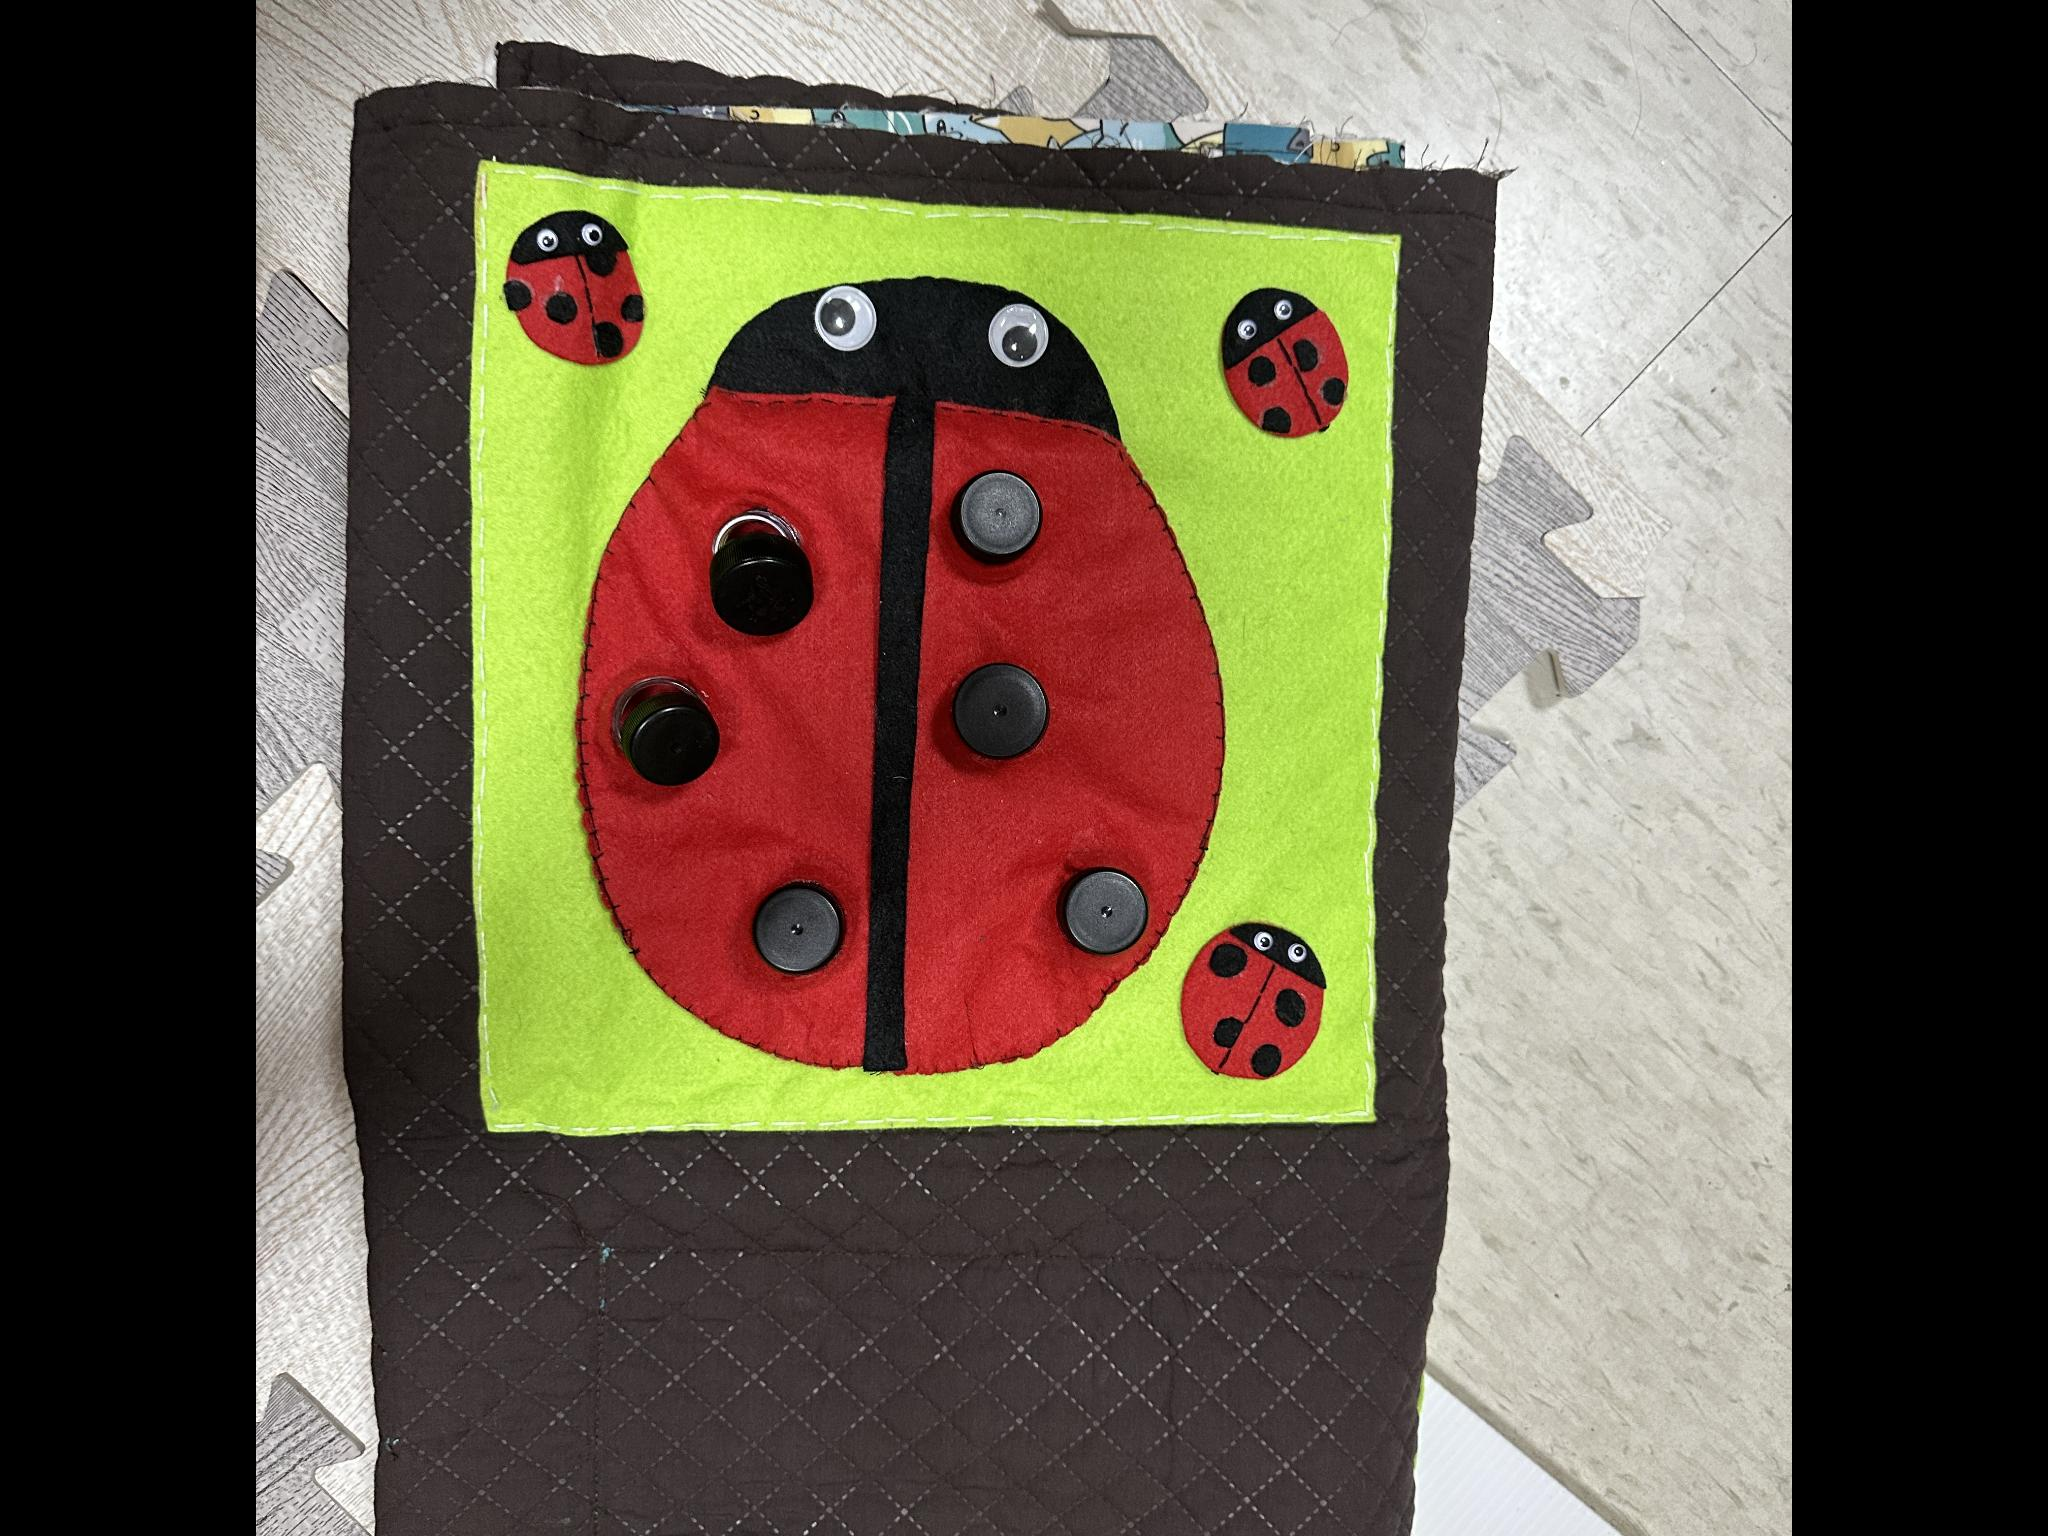cap_ng: (581, 666, 735, 816), (697, 497, 835, 650)
cap_ok: (934, 650, 1059, 784), (734, 862, 868, 984), (1055, 862, 1159, 975), (948, 463, 1050, 576)
